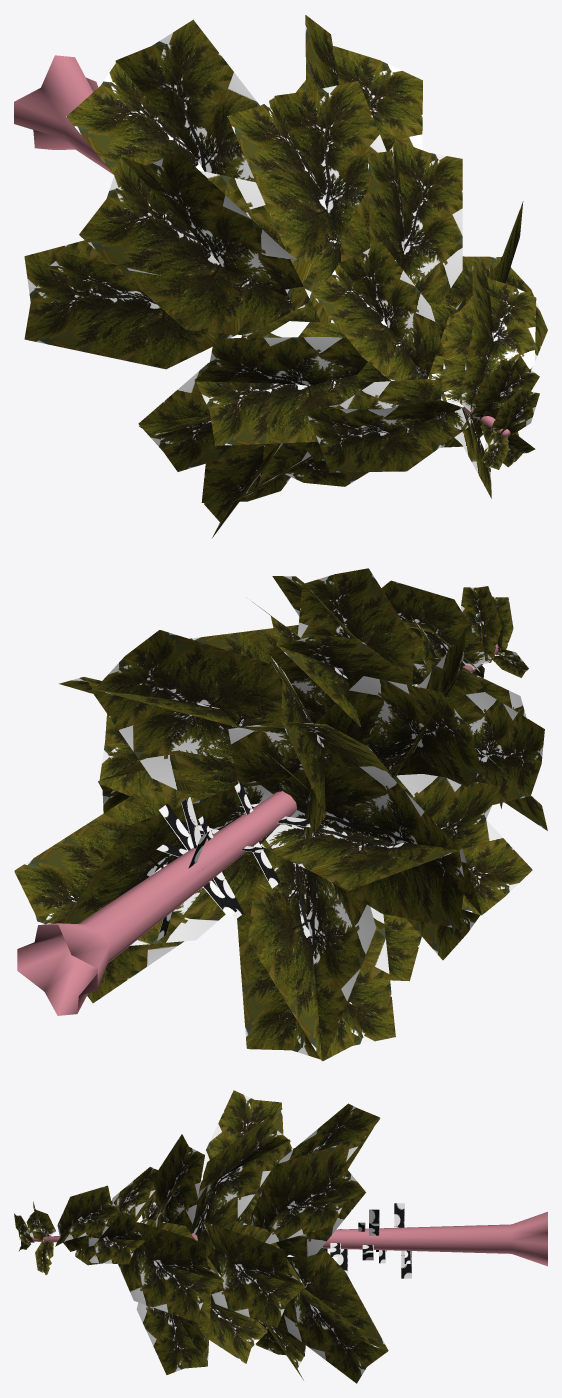
Rendered from Pine.fbx.
3 renders of one model, top to bottom at view 1: azimuth 30°, elevation 25°; view 2: azimuth 150°, elevation 25°; view 3: azimuth 270°, elevation 25°, orthographic. The views are drawn at different scales.
Parts seen in each view (by area): view 1: PineBark; view 2: PineBark; view 3: PineBark.
Part boxes in pixels (x1=…): PineBark: x1=14, y1=15, x2=547, y2=537; PineBark: x1=14, y1=568, x2=547, y2=1061; PineBark: x1=14, y1=1090, x2=547, y2=1383.
Size of the model in its own units: 6.77 by 6.95 by 12.72.
